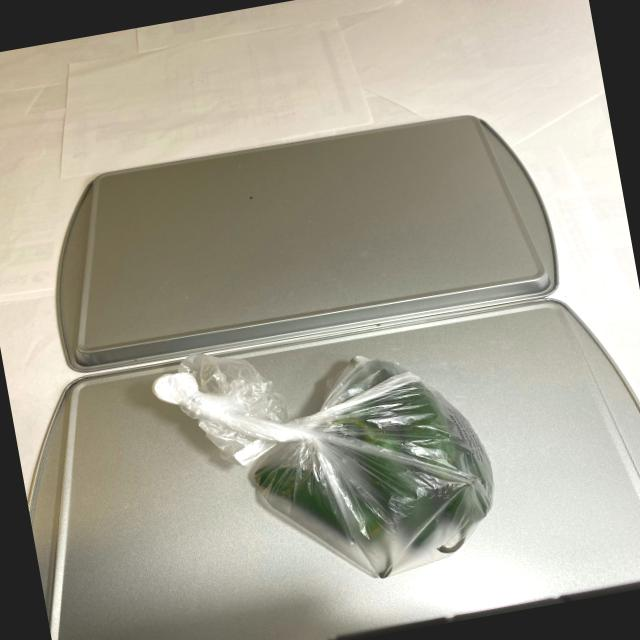chilli: (238, 340, 507, 598)
